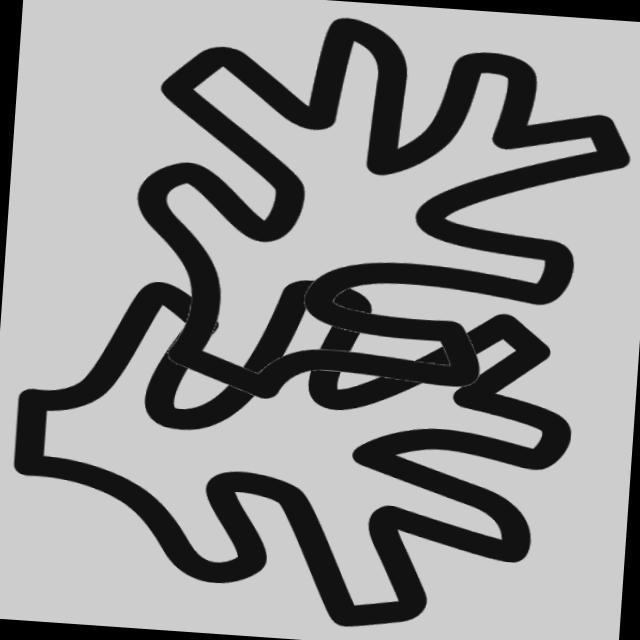coral: (1, 250, 606, 640), (108, 1, 640, 431)
